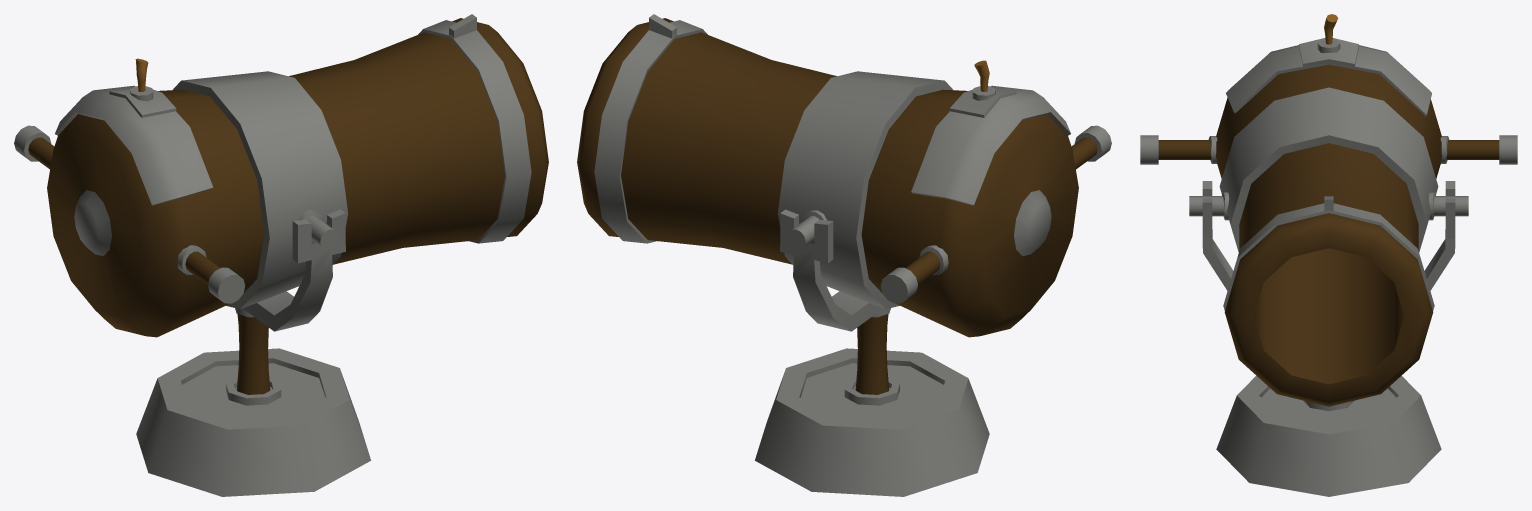
The model's file is cannonLowPoly.fbx.
3 renders of one model, left to right at view 1: azimuth 30°, elevation 25°; view 2: azimuth 150°, elevation 25°; view 3: azimuth 270°, elevation 25°, orthographic. The views are drawn at different scales.
Parts seen in each view (by area): view 1: Cube; view 2: Cube; view 3: Cube.
Part boxes in pixels (left/top/right/bottom): Cube: left=14, top=14, right=548, bottom=496; Cube: left=577, top=14, right=1111, bottom=496; Cube: left=1140, top=14, right=1517, bottom=496.
Size of the model in its own units: 177 by 171 by 152.
